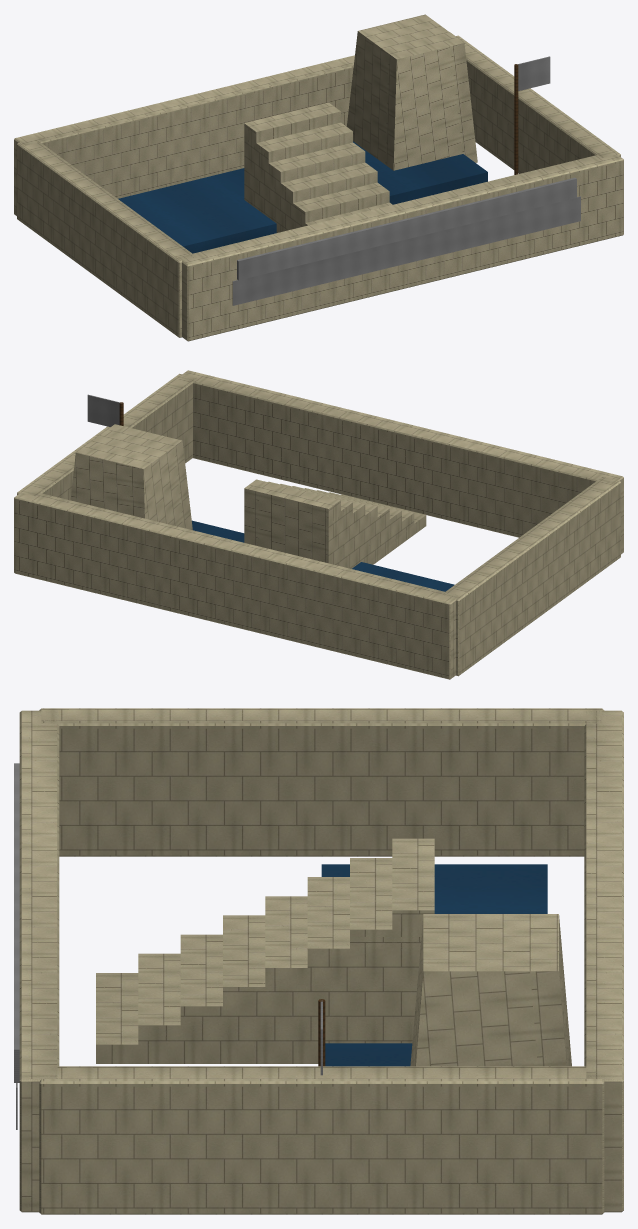
Rendered from irrigation-israelite.glb.
3 views of the same model, one above another, from view 1: azimuth 30°, elevation 25°; view 2: azimuth 150°, elevation 25°; view 3: azimuth 270°, elevation 25° (orthographic). The views are drawn at different scales.
Visible parts, largest first — view 1: LOD0; view 2: LOD0; view 3: LOD0.
Boxes of the visible parts, x1,y1,x2,y2 form: LOD0: [14, 14, 623, 341]; LOD0: [14, 370, 623, 679]; LOD0: [14, 708, 623, 1214].
Size of what is drawn, in the model's own units: 1.61 by 0.4 by 1.08.
2 materials, 2 textured.
